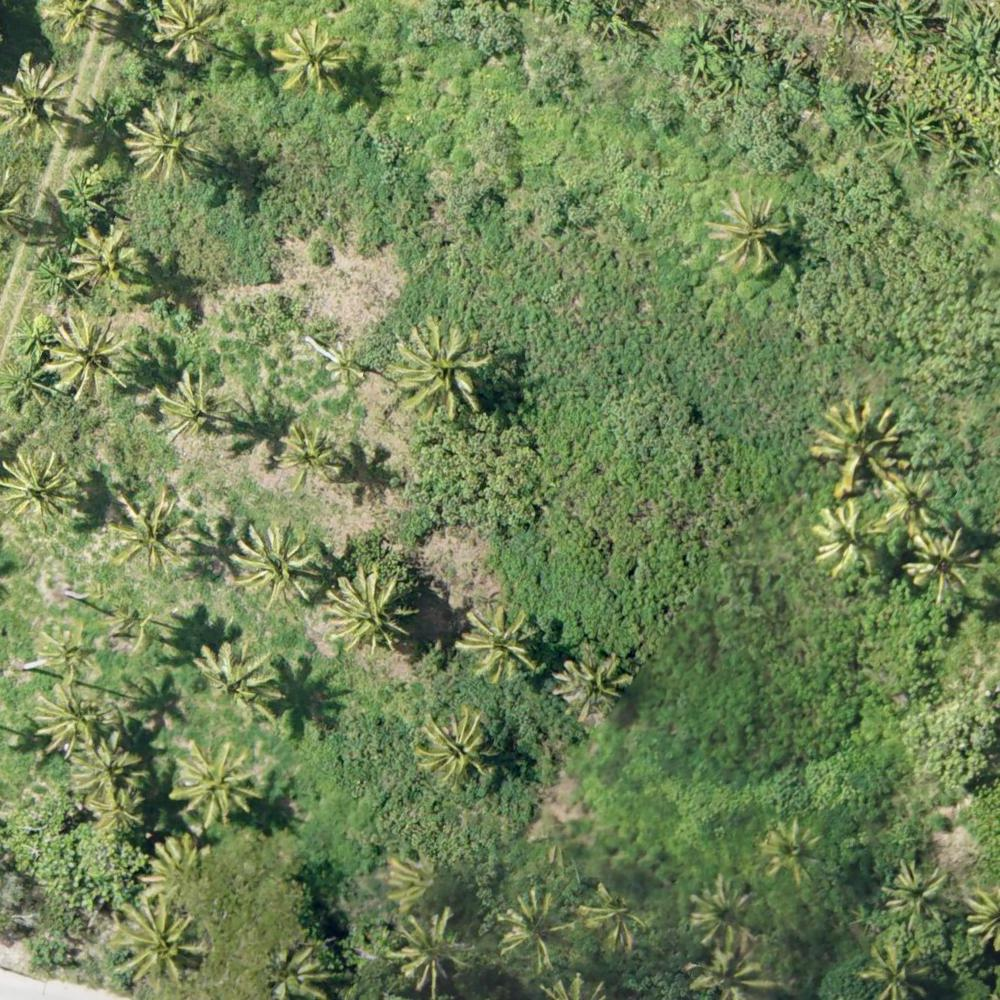Palm: (111, 899, 216, 991), (815, 402, 911, 490), (395, 324, 487, 415), (192, 642, 289, 727), (228, 523, 321, 607), (329, 566, 417, 652), (49, 314, 138, 399), (122, 100, 213, 180), (172, 739, 255, 825), (412, 707, 496, 790), (109, 493, 192, 576), (383, 915, 471, 991), (1, 450, 83, 531), (1, 66, 82, 145), (708, 190, 791, 266), (457, 605, 535, 685), (272, 23, 352, 97), (683, 876, 766, 947), (153, 372, 230, 446), (68, 228, 146, 300), (906, 529, 983, 600), (496, 893, 573, 964), (32, 684, 107, 756), (147, 1, 224, 71), (874, 862, 958, 925), (573, 884, 649, 951), (67, 739, 139, 806), (816, 506, 883, 575), (682, 949, 778, 997), (863, 936, 935, 999), (878, 472, 946, 538), (555, 657, 632, 714), (757, 816, 823, 882), (280, 425, 340, 486), (36, 628, 96, 679), (324, 343, 368, 388)
